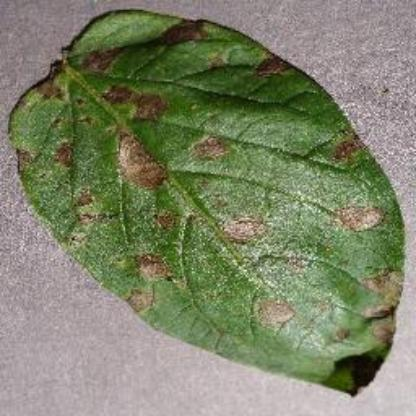Early-Blight: (14, 8, 406, 396)
